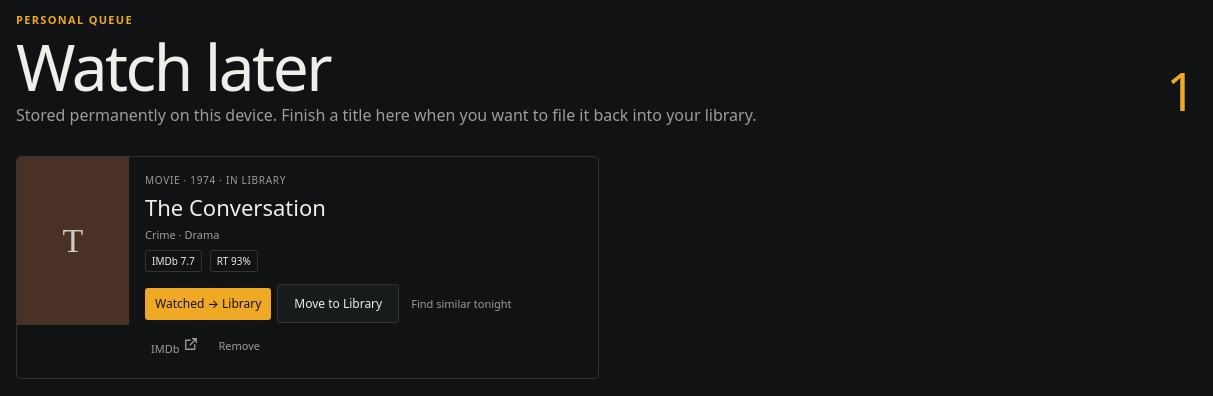
Test: WatchLaterScreen › marks a queued title watched and moves it back to the permanent library
Expected: the heading "The Conversation" is shown, x1=145 y1=192 x2=326 y2=222
What coordinates should you click on to do the following:
click the button "Watched → Library"
I would click on:
 (208, 304)
Its box is x1=145 y1=288 x2=271 y2=320.
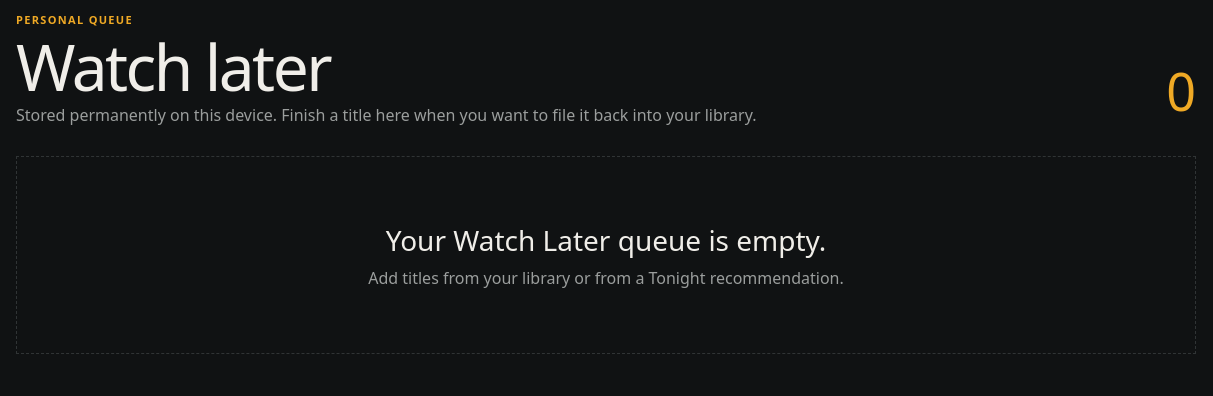
Now the heading "Your Watch Later queue is empty." is shown, box x1=386 y1=221 x2=826 y2=259
